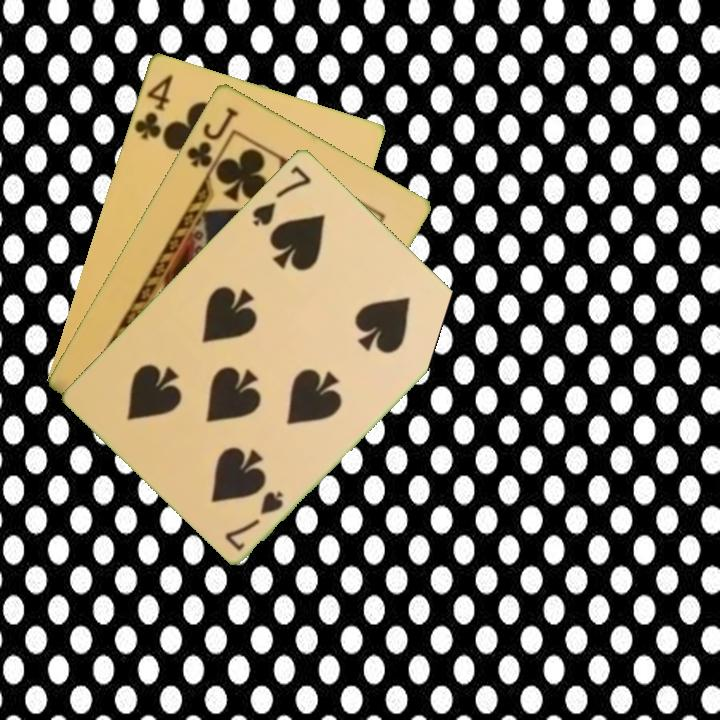4c: (130, 70, 176, 142)
7s: (248, 161, 315, 229), (221, 486, 287, 554)
Jc: (182, 103, 241, 179)
